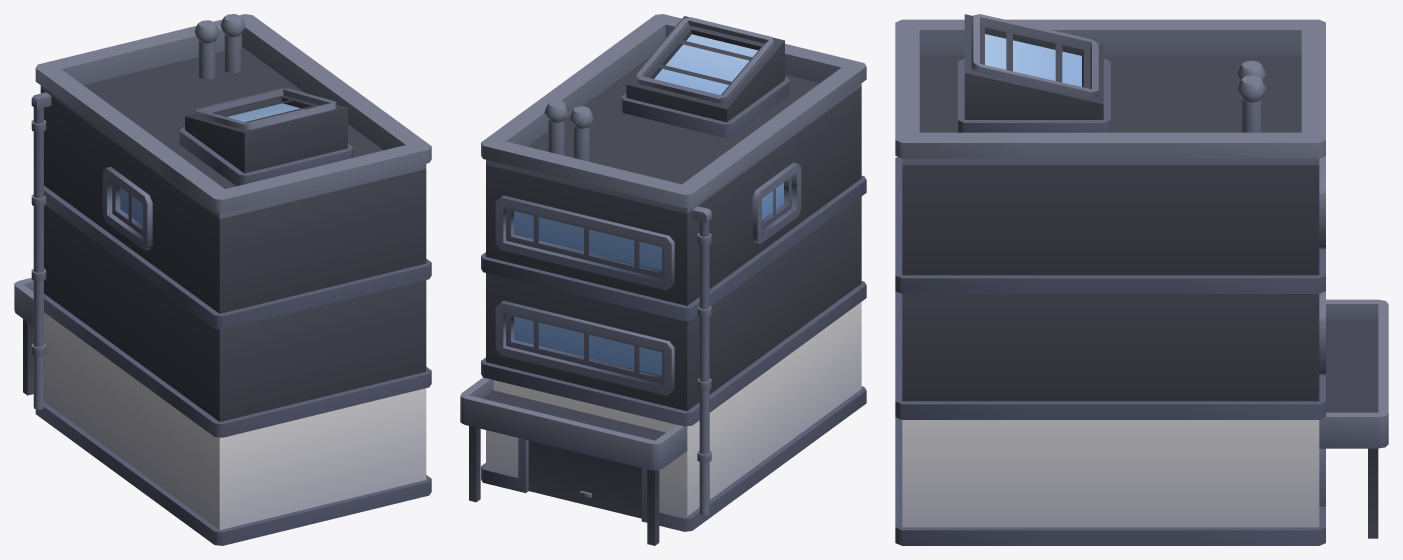
The model's file is building-d_lev1.glb.
3 views of the same model, side by side, from view 1: azimuth 30°, elevation 25°; view 2: azimuth 150°, elevation 25°; view 3: azimuth 270°, elevation 25° (orthographic). The views are drawn at different scales.
Parts seen in each view (by area): view 1: building-d_lev1; view 2: building-d_lev1; view 3: building-d_lev1.
Boxes of the visible parts, x1=… form: building-d_lev1: x1=14, y1=14, x2=431, y2=545; building-d_lev1: x1=460, y1=14, x2=866, y2=545; building-d_lev1: x1=895, y1=14, x2=1388, y2=545.
Bounding box in the file's own units: 0.8836 × 1.41 × 1.42.
Materials: 1 (1 with a texture image).
